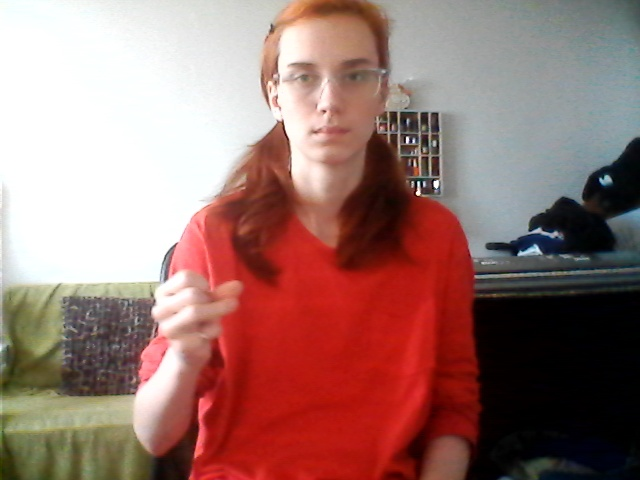r: (150, 264, 259, 378)
